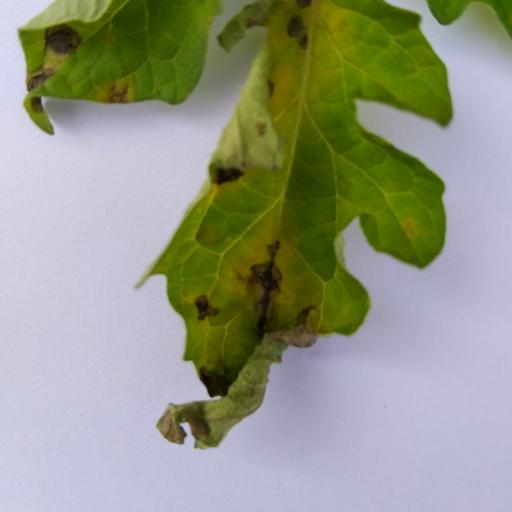Early Blight: (138, 0, 454, 450)
